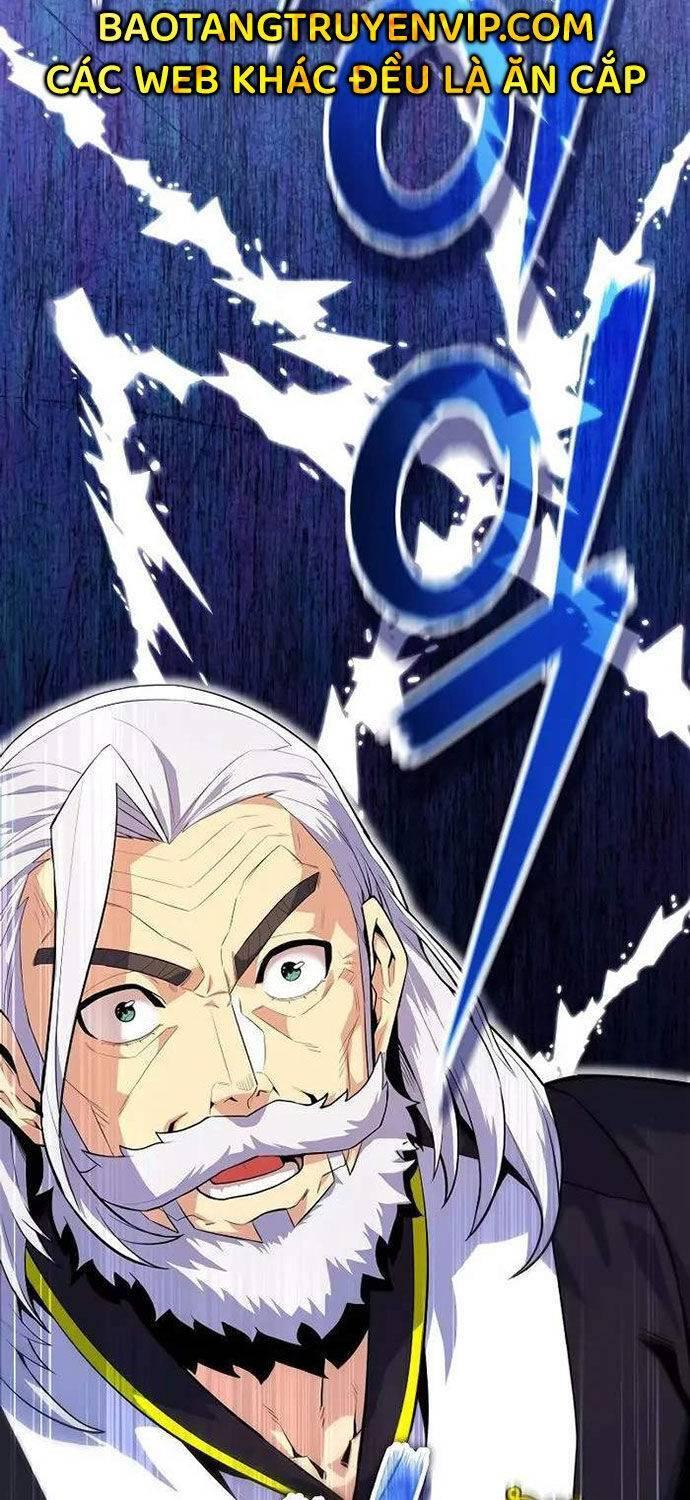quangcao: (38, 10, 654, 104)
